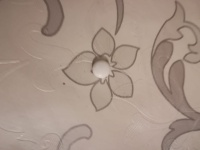Yuvarlak Buskopan: (92, 58, 111, 79)
